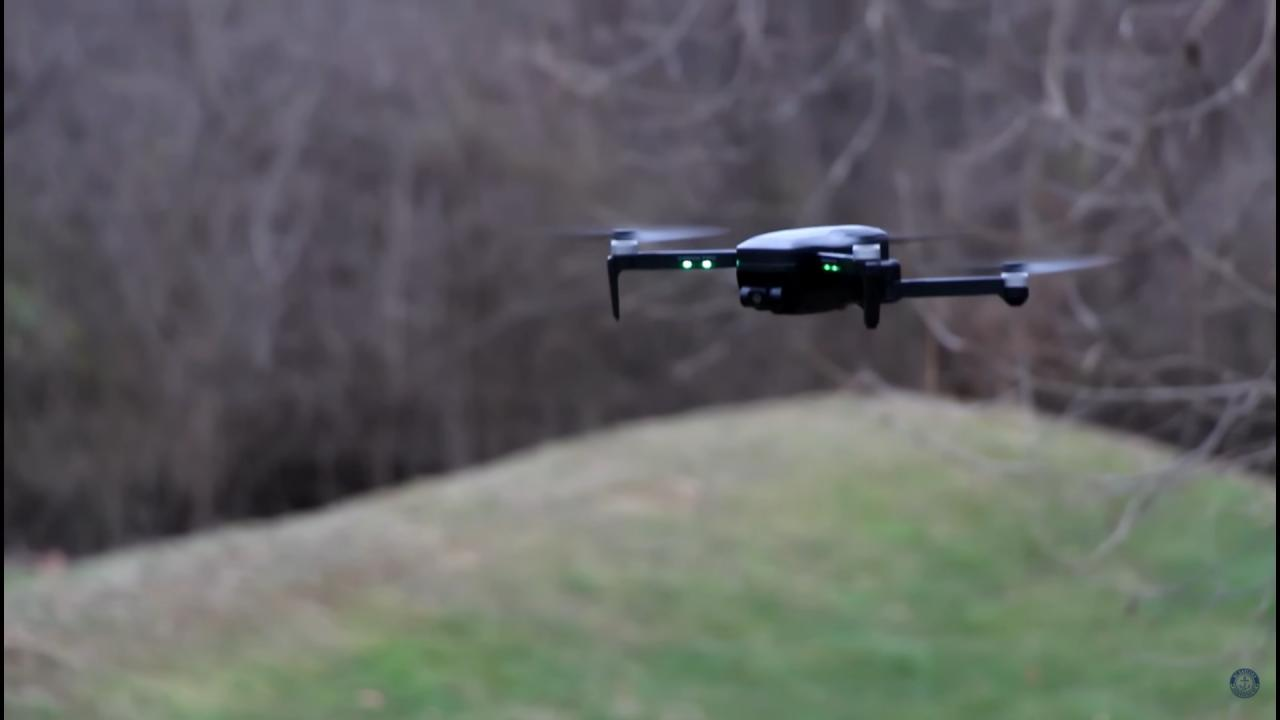Drone: (538, 208, 1128, 339)
